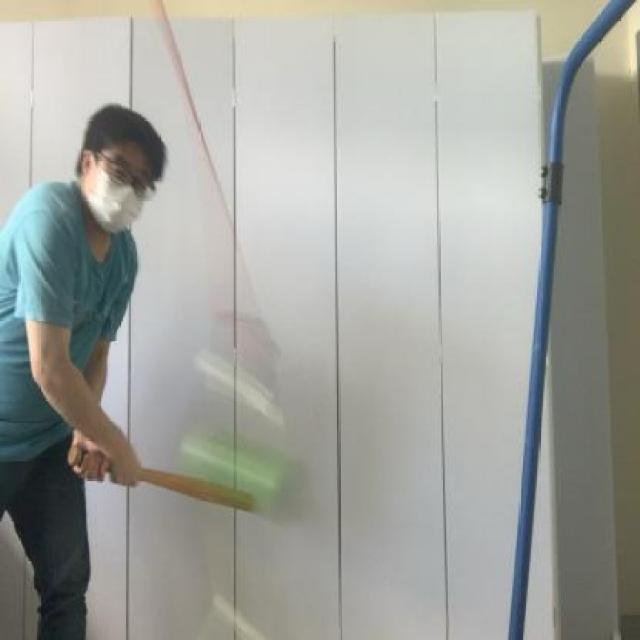baseball: (173, 414, 319, 517)
